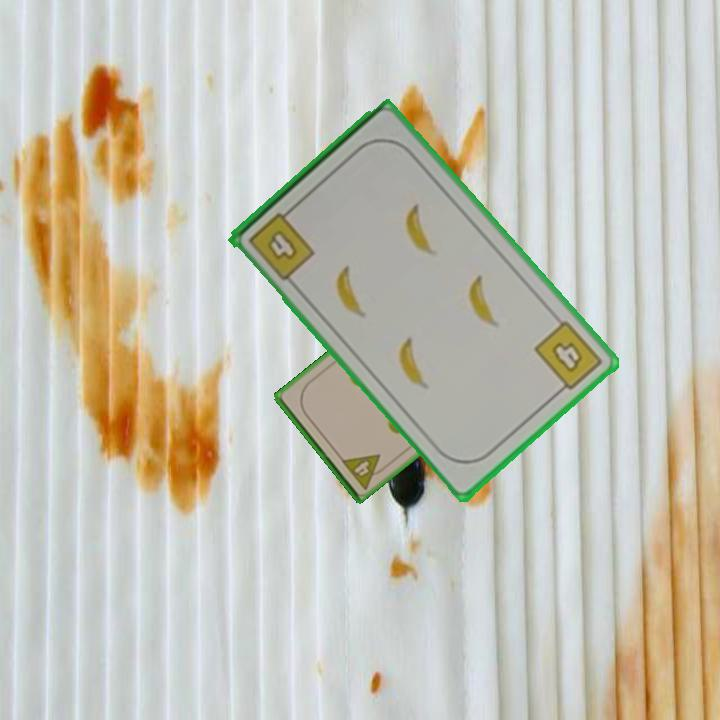4b: (530, 317, 606, 399), (244, 203, 318, 284)
4p: (337, 450, 390, 492)
